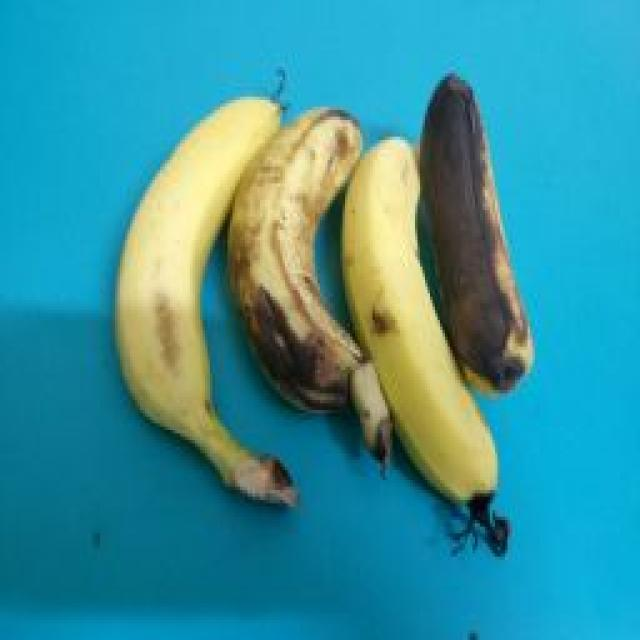Organik: (114, 55, 288, 516), (335, 100, 504, 545), (231, 86, 386, 450), (412, 69, 558, 394)
